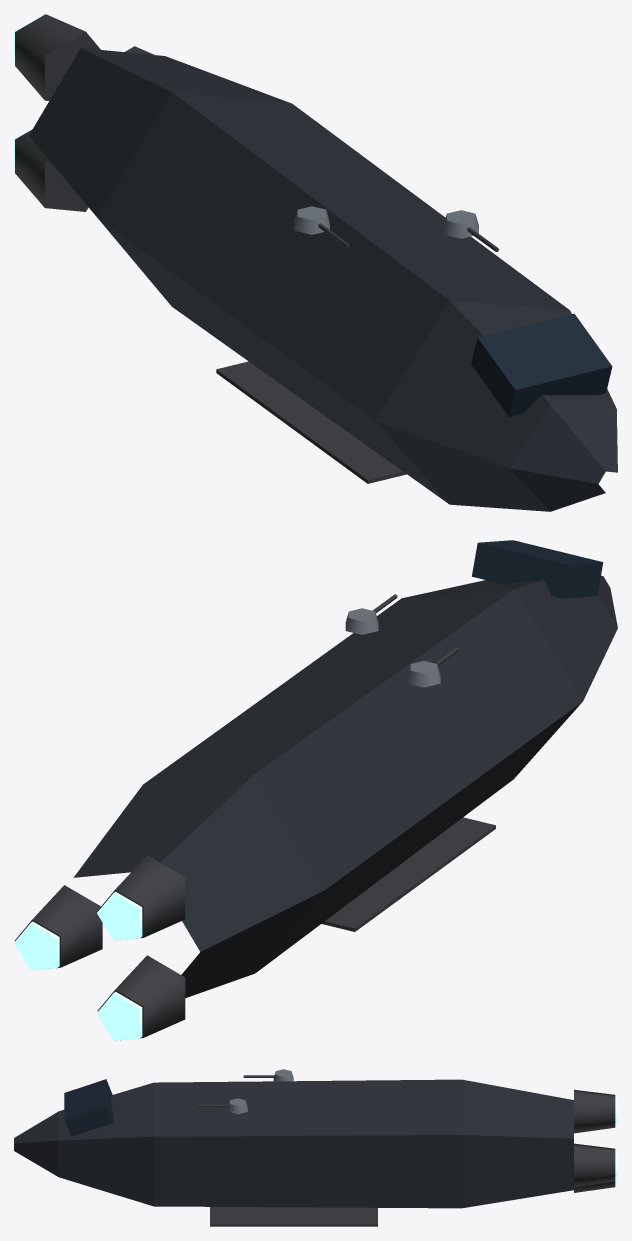
The model's file is space_ship_transport_mk4_lod1.glb.
The picture shows the model from 3 angles, top to bottom: view 1: azimuth 30°, elevation 25°; view 2: azimuth 150°, elevation 25°; view 3: azimuth 270°, elevation 25°; orthographic projection. The views are drawn at different scales.
Parts seen in each view (by area): view 1: body, hangar_door, engine_1, engine_2, turret_1, turret_0; view 2: body, engine_2, engine_1, hangar_door, engine_0, turret_0, turret_1; view 3: body, hangar_door, engine_1, engine_0, turret_0, turret_1, engine_2.
Part boxes in pixels (bbox=[...]): body: bbox=[29, 48, 617, 511]; hangar_door: bbox=[216, 361, 406, 483]; engine_1: bbox=[14, 14, 100, 100]; engine_2: bbox=[14, 127, 88, 211]; turret_1: bbox=[294, 206, 350, 247]; turret_0: bbox=[443, 210, 499, 251]; body: bbox=[73, 540, 617, 997]; engine_2: bbox=[97, 955, 185, 1040]; engine_1: bbox=[97, 855, 185, 940]; hangar_door: bbox=[321, 817, 495, 931]; engine_0: bbox=[14, 885, 102, 970]; turret_0: bbox=[345, 594, 397, 634]; turret_1: bbox=[407, 647, 459, 687]; body: bbox=[14, 1079, 573, 1208]; hangar_door: bbox=[210, 1207, 377, 1226]; engine_1: bbox=[574, 1089, 617, 1133]; engine_0: bbox=[574, 1143, 617, 1187]; turret_0: bbox=[198, 1098, 247, 1114]; turret_1: bbox=[243, 1069, 293, 1081]; engine_2: bbox=[574, 1180, 617, 1192].
Size of the model in its own units: 5.7 by 5.87 by 26.41.
